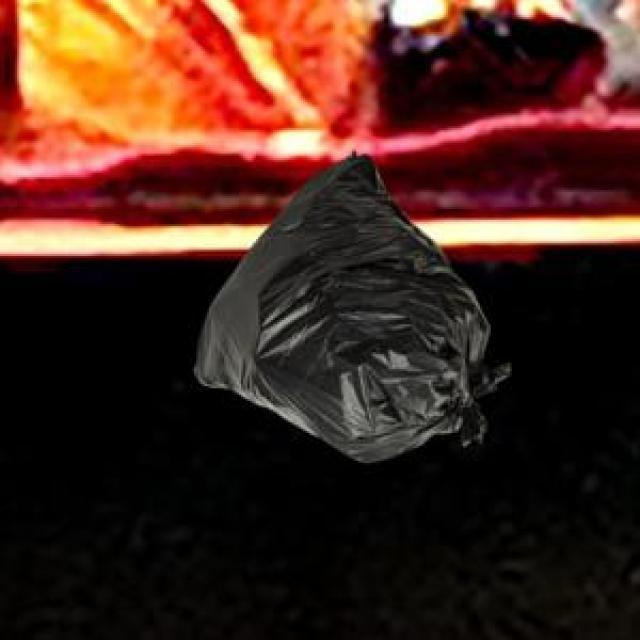miscellaneous trash: (190, 149, 506, 459)
